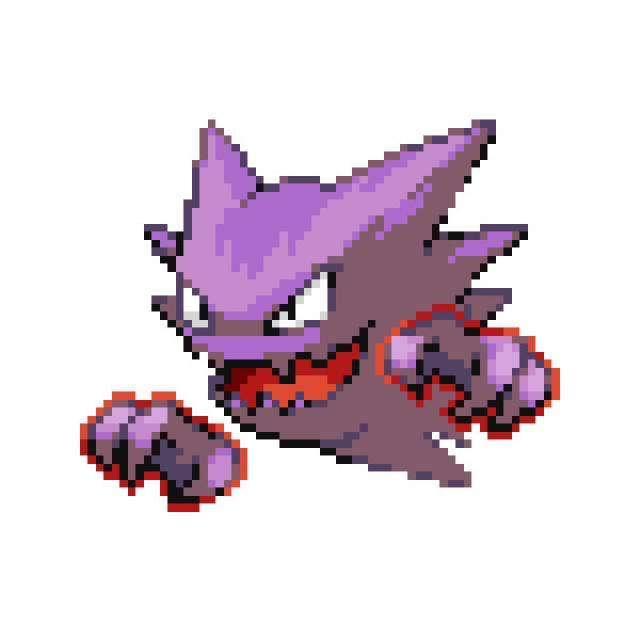Haunter: (63, 123, 593, 536)
